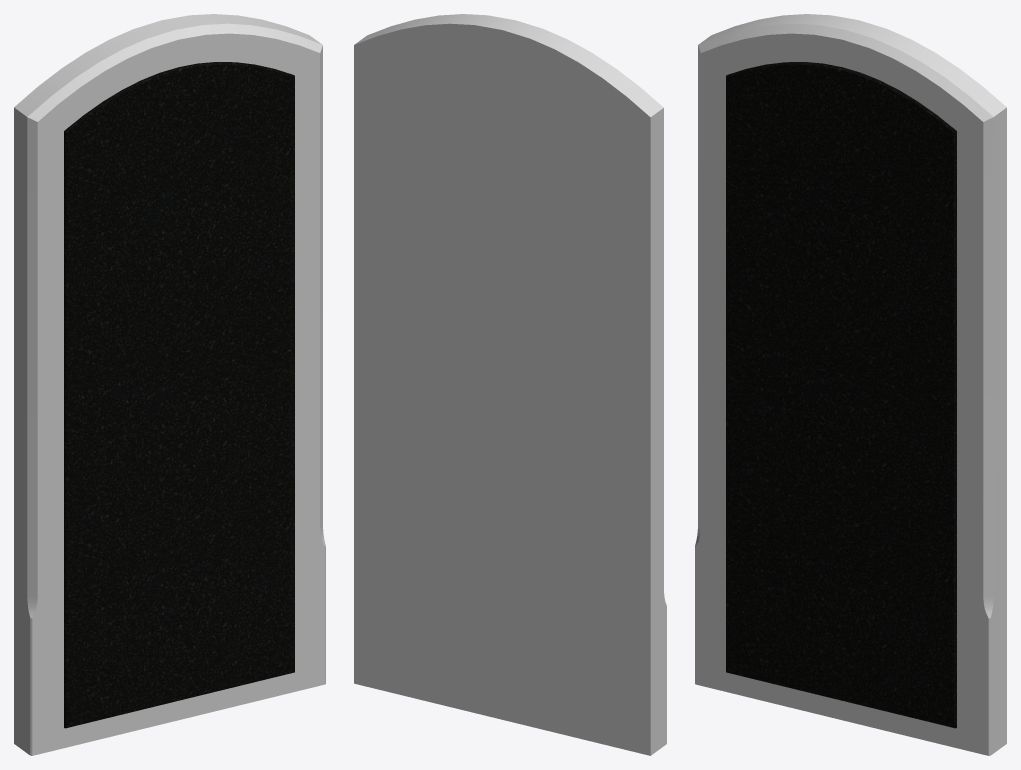
The model's file is cn3414c400aa_tkf.glb.
The picture shows the model from 3 angles, left to right: view 1: azimuth 30°, elevation 25°; view 2: azimuth 150°, elevation 25°; view 3: azimuth 330°, elevation 25°; orthographic projection.
Visible parts, largest first — view 1: Pam-kombi-005_2_notexture, Pam-kombi-005; view 2: Pam-kombi-005; view 3: Pam-kombi-005_2_notexture, Pam-kombi-005.
Boxes of the visible parts, x1=… form: Pam-kombi-005_2_notexture: x1=64, y1=62, x2=294, y2=728; Pam-kombi-005: x1=14, y1=14, x2=325, y2=755; Pam-kombi-005: x1=354, y1=14, x2=666, y2=755; Pam-kombi-005_2_notexture: x1=726, y1=62, x2=956, y2=728; Pam-kombi-005: x1=695, y1=14, x2=1006, y2=755.
Size of the model in its own units: 0.45 by 1 by 0.05.
Materials: 1 (1 with a texture image).
